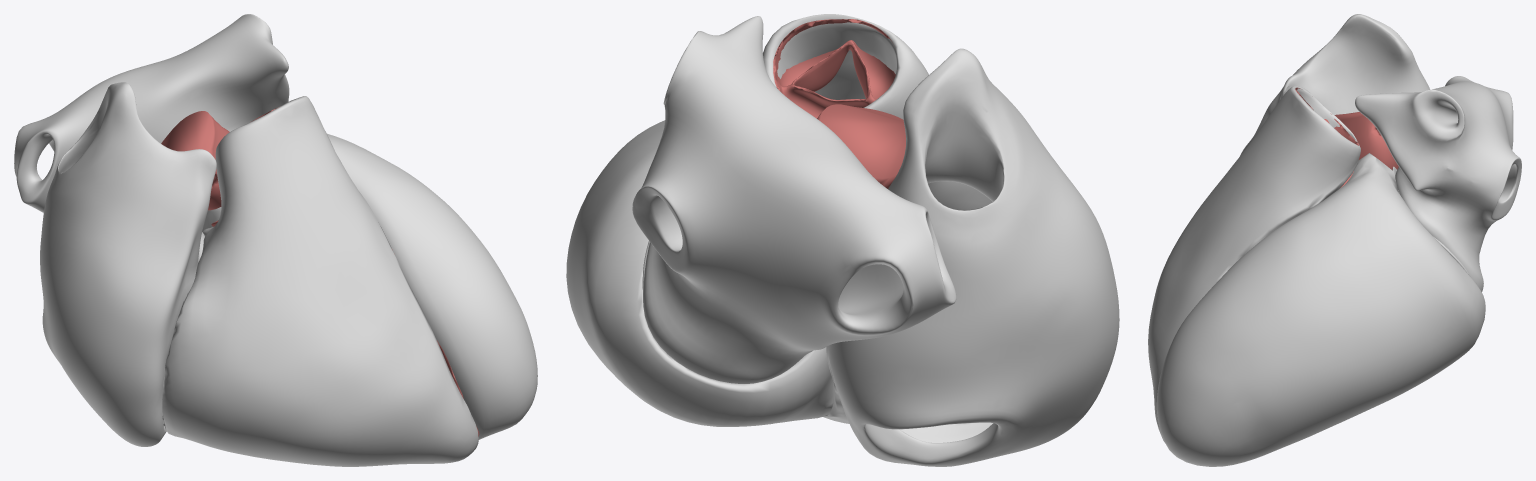
File: vh_m_heart-80.fbx
3 renders of one model, left to right at view 1: azimuth 30°, elevation 25°; view 2: azimuth 150°, elevation 25°; view 3: azimuth 270°, elevation 25°, orthographic. The views are drawn at different scales.
Visible parts, largest first — view 1: VH_M_heart_right_ventricle, VH_M_right_cardiac_atrium, VH_M_heart_left_ventricle, VH_M_left_cardiac_atrium, VH_M_aortic_valve; view 2: VH_M_left_cardiac_atrium, VH_M_right_cardiac_atrium, VH_M_heart_left_ventricle, VH_M_heart_right_ventricle, VH_M_pulmonary_valve, VH_M_aortic_valve; view 3: VH_M_heart_left_ventricle, VH_M_heart_right_ventricle, VH_M_left_cardiac_atrium, VH_M_right_cardiac_atrium, VH_M_aortic_valve.
Part boxes in pixels (x1=…): VH_M_heart_right_ventricle: x1=162, y1=96, x2=478, y2=466; VH_M_right_cardiac_atrium: x1=40, y1=82, x2=216, y2=446; VH_M_heart_left_ventricle: x1=202, y1=133, x2=537, y2=439; VH_M_left_cardiac_atrium: x1=14, y1=14, x2=289, y2=212; VH_M_aortic_valve: x1=161, y1=111, x2=229, y2=210; VH_M_left_cardiac_atrium: x1=632, y1=16, x2=956, y2=383; VH_M_right_cardiac_atrium: x1=826, y1=48, x2=1119, y2=466; VH_M_heart_left_ventricle: x1=566, y1=120, x2=833, y2=426; VH_M_heart_right_ventricle: x1=763, y1=14, x2=928, y2=423; VH_M_pulmonary_valve: x1=773, y1=19, x2=895, y2=118; VH_M_aortic_valve: x1=817, y1=104, x2=905, y2=188; VH_M_heart_left_ventricle: x1=1156, y1=153, x2=1485, y2=466; VH_M_heart_right_ventricle: x1=1148, y1=86, x2=1360, y2=442; VH_M_left_cardiac_atrium: x1=1355, y1=76, x2=1521, y2=291; VH_M_right_cardiac_atrium: x1=1240, y1=14, x2=1429, y2=155; VH_M_aortic_valve: x1=1334, y1=112, x2=1398, y2=169.
Bounding box in the file's own units: 12.44 × 10.54 × 10.52.
